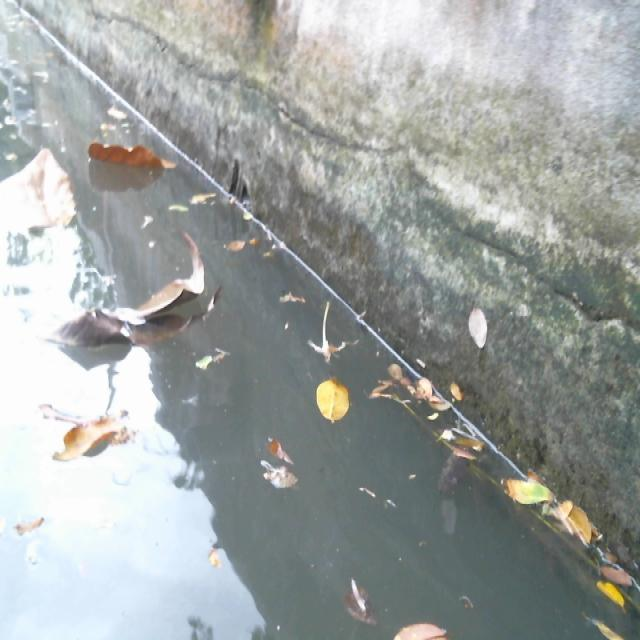Big-leaf: (37, 243, 225, 358), (28, 401, 150, 478), (0, 147, 81, 237), (84, 128, 184, 188)
Small-leaf: (498, 467, 553, 522), (315, 371, 355, 431), (258, 432, 305, 480), (277, 286, 322, 330), (338, 573, 375, 623), (377, 619, 458, 640), (590, 570, 628, 612), (558, 499, 588, 548), (574, 614, 626, 640), (10, 511, 58, 537), (257, 465, 295, 493), (186, 188, 225, 212), (224, 229, 249, 261), (105, 99, 135, 123)
